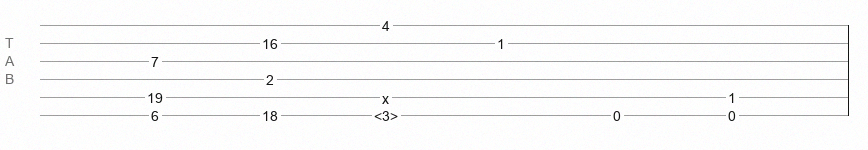0: (613, 108, 621, 118), (728, 108, 736, 118)
1: (497, 36, 505, 46), (728, 90, 736, 100)
16: (262, 36, 278, 46)
18: (262, 108, 278, 118)
19: (147, 90, 163, 100)
2: (266, 72, 274, 82)
4: (382, 18, 390, 28)
6: (151, 108, 159, 118)
7: (151, 54, 159, 64)
harmonic: (374, 108, 398, 118)
x: (382, 91, 389, 99)
